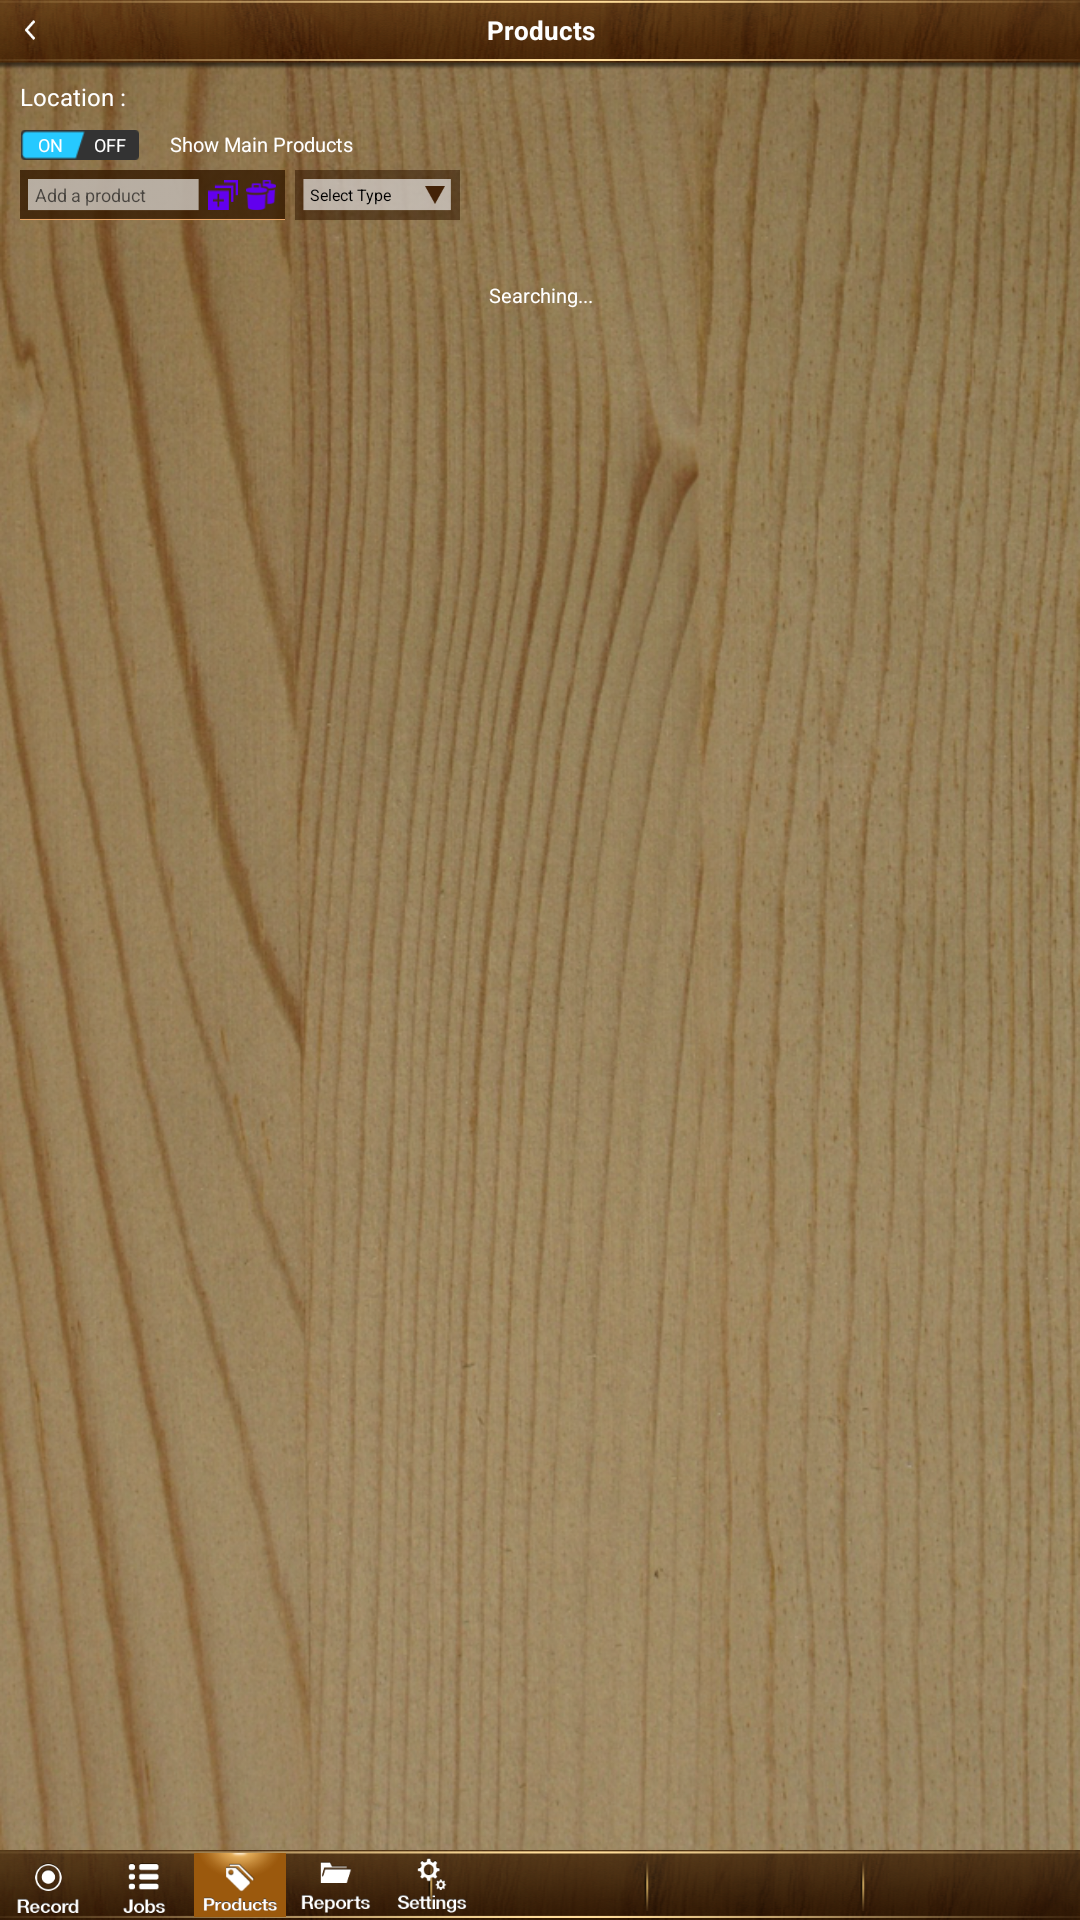

Icon click points for this 1080 x 1920 phone screenshot, format (x,y):
job add: (223,195)
job delete: (261,195)
